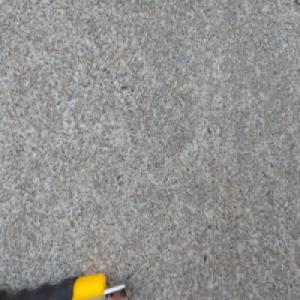Cutter: (0, 272, 132, 300)
